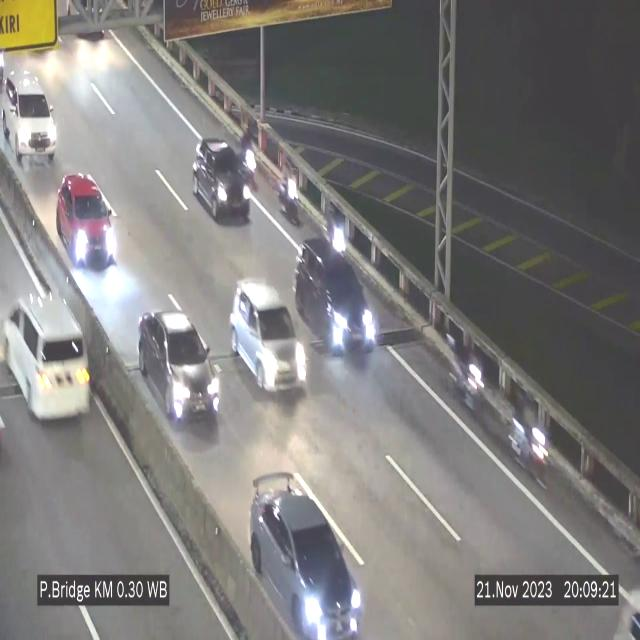Car: (249, 475, 362, 640), (0, 272, 102, 427), (294, 238, 374, 358), (138, 311, 220, 421), (230, 281, 307, 394), (0, 68, 58, 167), (57, 173, 115, 265), (192, 137, 250, 223)
Motorcycle: (518, 406, 550, 489), (455, 337, 481, 418), (274, 156, 298, 230), (238, 120, 260, 192), (323, 205, 345, 268)
